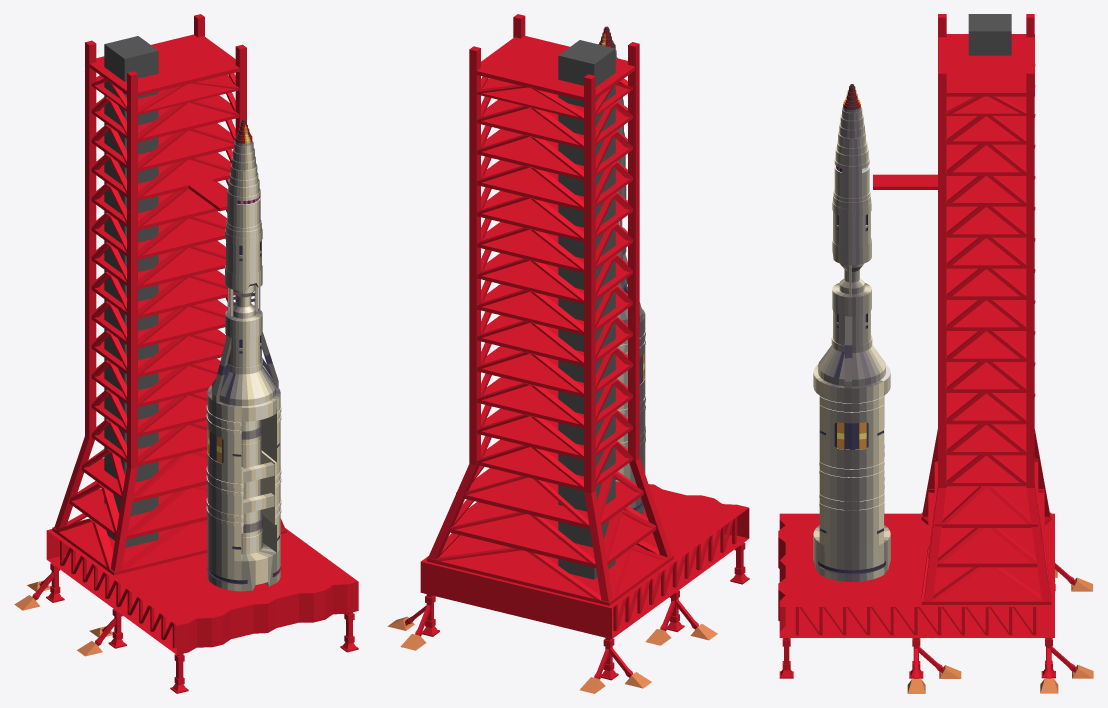
The model's file is SpaceStation.fbx.
3 views of the same model, side by side, from view 1: azimuth 30°, elevation 25°; view 2: azimuth 150°, elevation 25°; view 3: azimuth 270°, elevation 25° (orthographic). The views are drawn at different scales.
Visible parts, largest first — view 1: Cylinder, Cubo, Cubo.026, Cubo.032, Cubo.029, Cubo.009, Cubo.024, Cubo.012, Cubo.020, Cubo.033, Cubo.021, Cubo.022 (+14 smaller); view 2: Cubo, Cubo.026, Cubo.009, Cubo.012, Cubo.029, Cubo.030, Cubo.032, Cubo.033, Cubo.024, Cubo.013, Cubo.010, Cubo.016 (+15 smaller); view 3: Cylinder, Cubo, Cubo.009, Cubo.030, Cubo.031, Cubo.024, Cubo.012, Cubo.033, Cubo.020, Cubo.017, Cubo.018, Cubo.019 (+15 smaller).
Boxes of the visible parts, <box> form: Cylinder: <box>206,119,281,591</box>; Cubo: <box>46,528,358,654</box>; Cubo.026: <box>104,36,158,547</box>; Cubo.032: <box>111,71,137,571</box>; Cubo.029: <box>54,40,96,529</box>; Cubo.009: <box>52,513,286,575</box>; Cubo.024: <box>89,34,239,96</box>; Cubo.012: <box>69,481,207,539</box>; Cubo.020: <box>91,149,232,211</box>; Cubo.033: <box>81,449,207,502</box>; Cubo.021: <box>91,119,235,171</box>; Cubo.022: <box>91,92,239,142</box>; Cubo: <box>420,484,749,639</box>; Cubo.026: <box>558,40,615,579</box>; Cubo.009: <box>427,533,673,605</box>; Cubo.012: <box>448,499,656,567</box>; Cubo.029: <box>584,74,612,601</box>; Cubo.030: <box>428,46,480,559</box>; Cubo.032: <box>628,42,672,557</box>; Cubo.033: <box>456,465,643,529</box>; Cubo.024: <box>470,36,634,102</box>; Cubo.013: <box>477,373,632,428</box>; Cubo.010: <box>477,436,632,490</box>; Cubo.016: <box>477,280,632,335</box>; Cylinder: <box>813,84,890,581</box>; Cubo: <box>778,513,1054,637</box>; Cubo.009: <box>921,512,1051,604</box>; Cubo.030: <box>1026,70,1050,601</box>; Cubo.031: <box>924,70,946,601</box>; Cubo.024: <box>938,34,1034,96</box>; Cubo.012: <box>928,489,1044,567</box>; Cubo.033: <box>934,458,1038,527</box>; Cubo.020: <box>873,145,1035,206</box>; Cubo.017: <box>946,238,1035,299</box>; Cubo.018: <box>946,207,1035,268</box>; Cubo.019: <box>946,176,1035,237</box>.
Size of the model in its own units: 5032 by 11076 by 5364.
